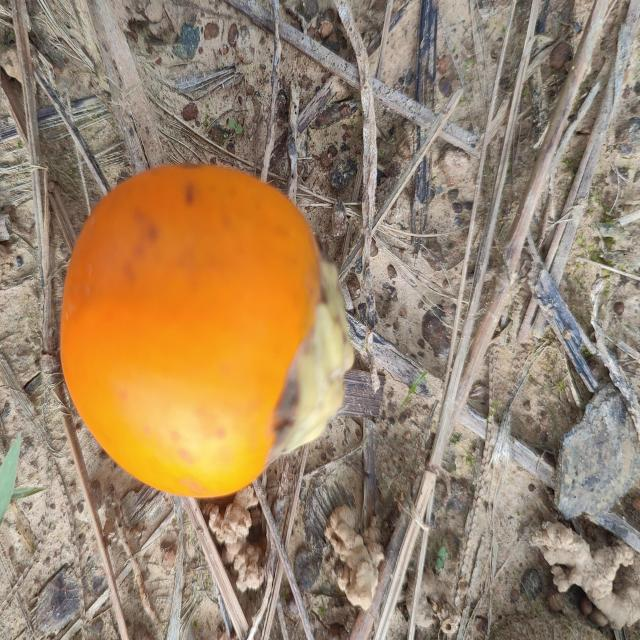good: (58, 164, 352, 501)
